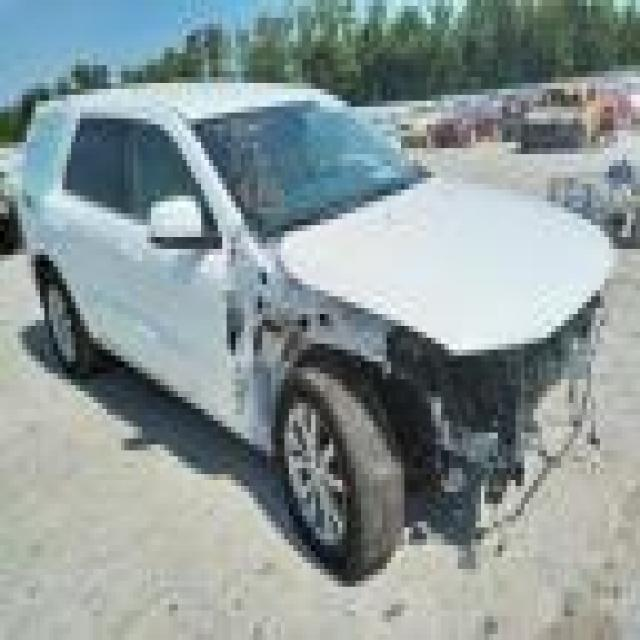moderate: (217, 242, 619, 568)
